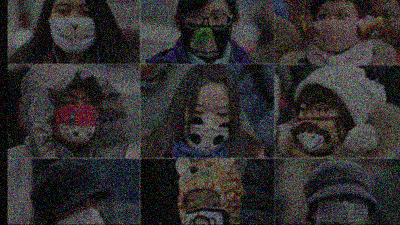with_mask: (45, 2, 97, 54), (292, 96, 342, 150), (180, 6, 232, 57), (53, 89, 100, 145), (182, 100, 232, 147), (314, 6, 358, 52), (312, 195, 369, 224), (56, 194, 100, 224), (185, 192, 225, 224)
